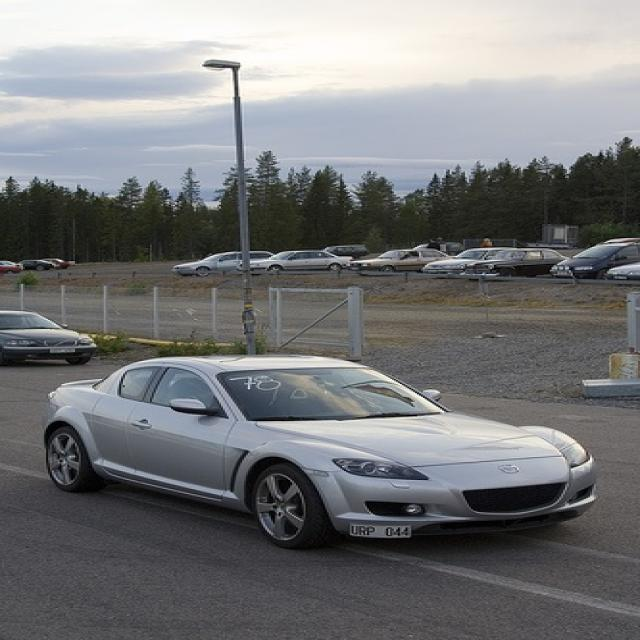car: (44, 353, 598, 549), (0, 310, 94, 364), (550, 237, 638, 279), (173, 251, 273, 278), (238, 251, 352, 274), (467, 250, 567, 276), (346, 250, 450, 274), (423, 247, 503, 275), (607, 258, 638, 282), (325, 243, 369, 257), (15, 259, 54, 270), (44, 258, 75, 268), (0, 261, 23, 274)
